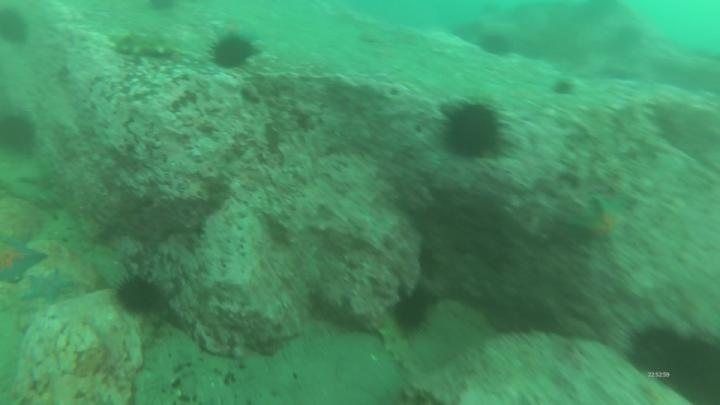echinus: (673, 341, 720, 403), (448, 103, 498, 160), (631, 326, 677, 378), (117, 281, 163, 315), (398, 295, 428, 334), (218, 35, 251, 68)
holothurian: (120, 32, 169, 59)
starfish: (578, 200, 632, 235), (1, 243, 44, 272), (28, 278, 73, 304)
